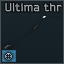MP-155 Ultima thermal camera: (0, 0, 64, 64)
